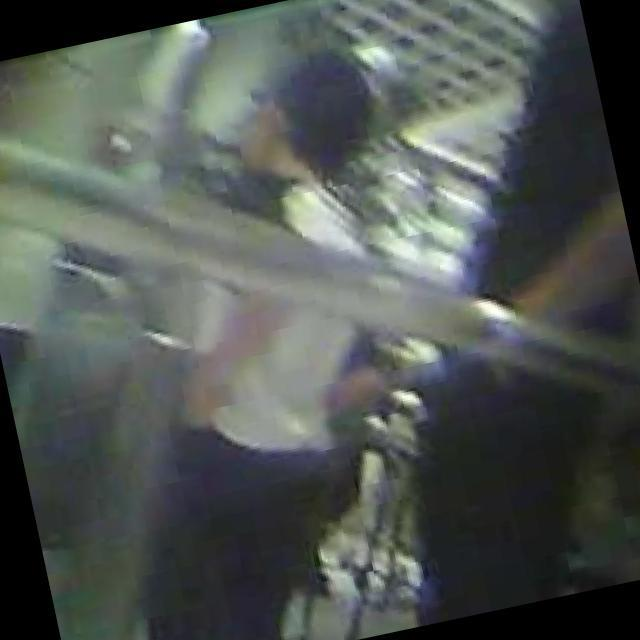person: (36, 43, 484, 640)
